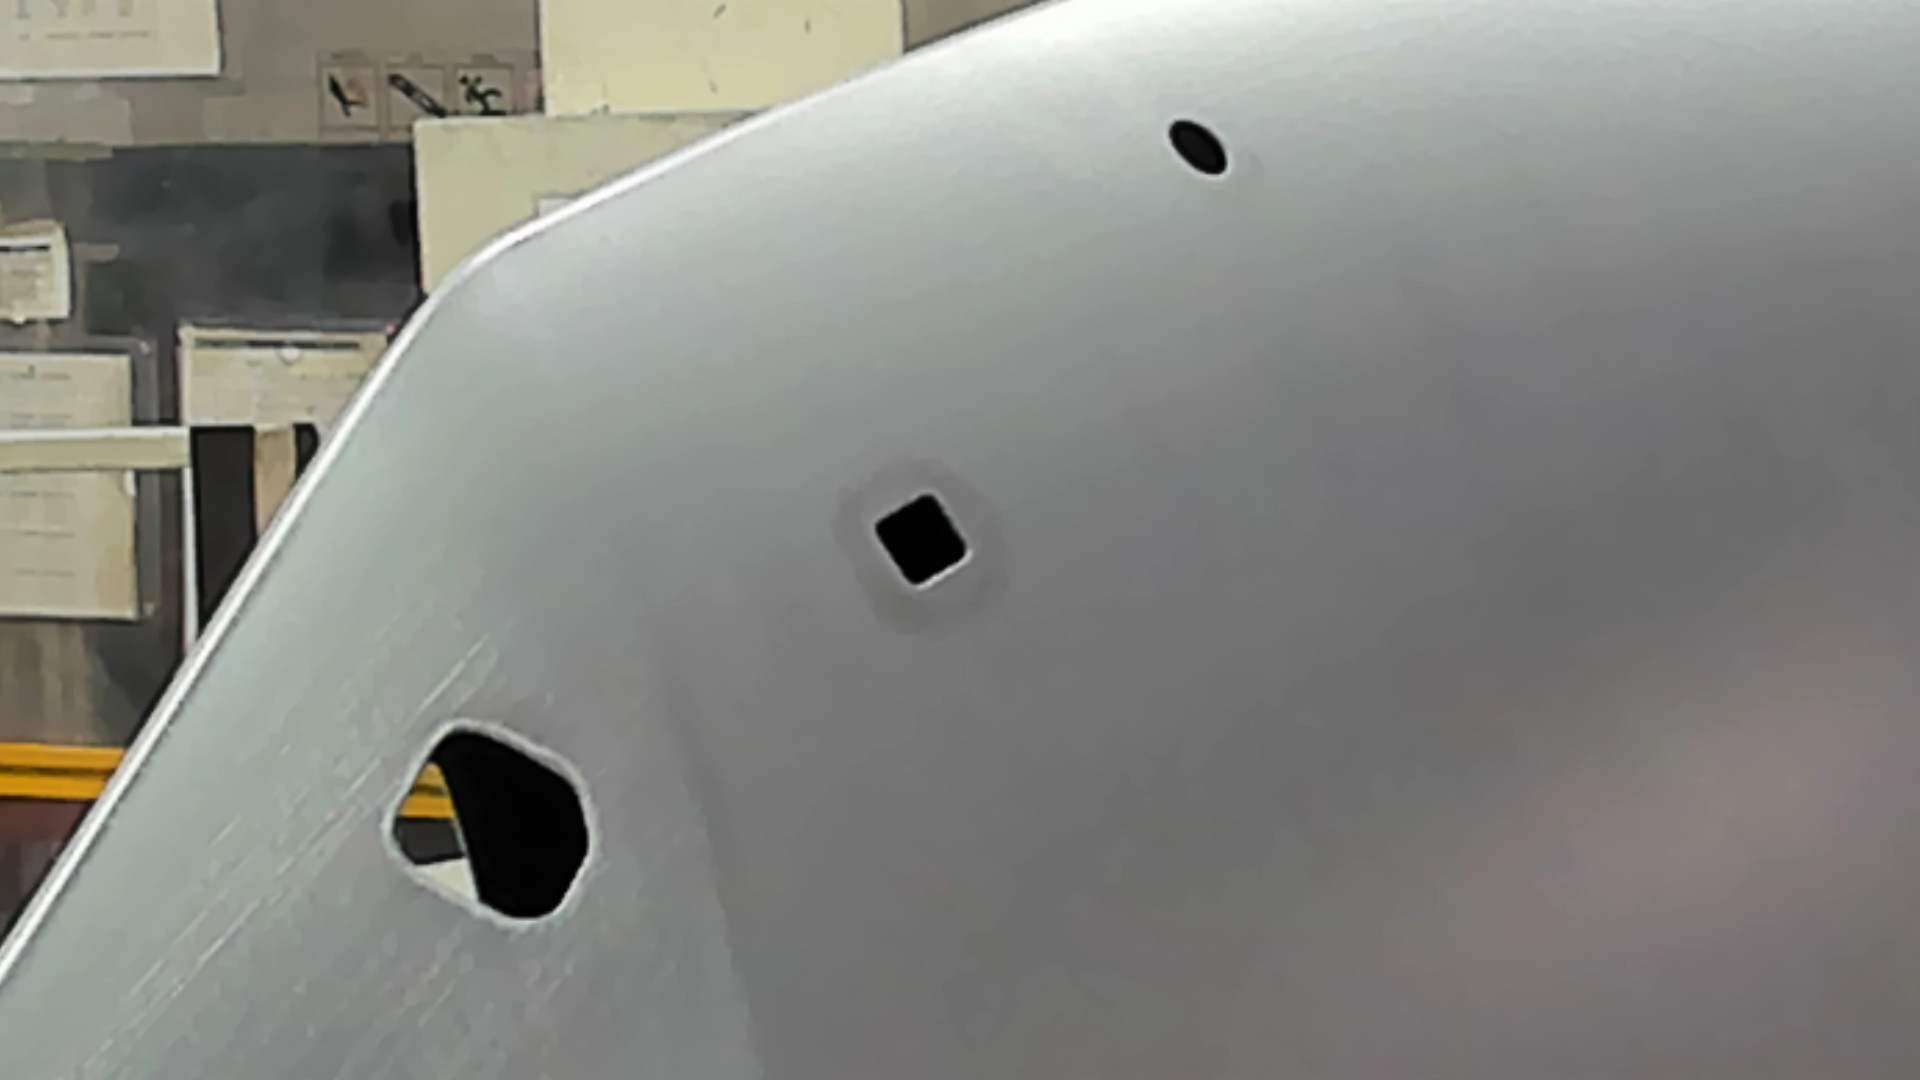capo: (984, 193, 1920, 1080)
chico: (1163, 111, 1234, 183)
grande: (377, 717, 601, 935)
mediano: (864, 483, 977, 593)
